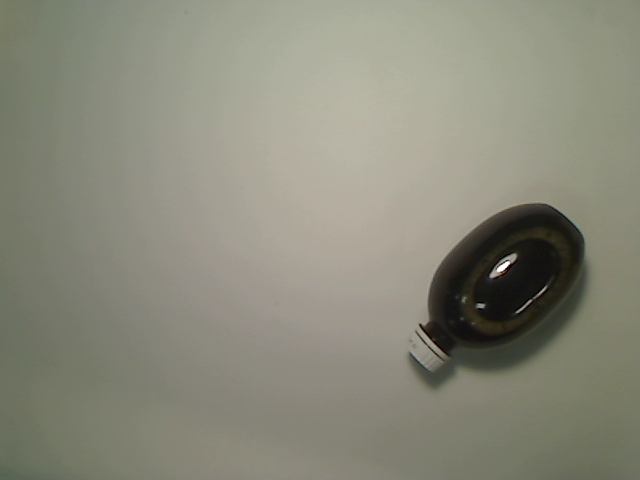plast_bottle: (405, 202, 587, 375)
